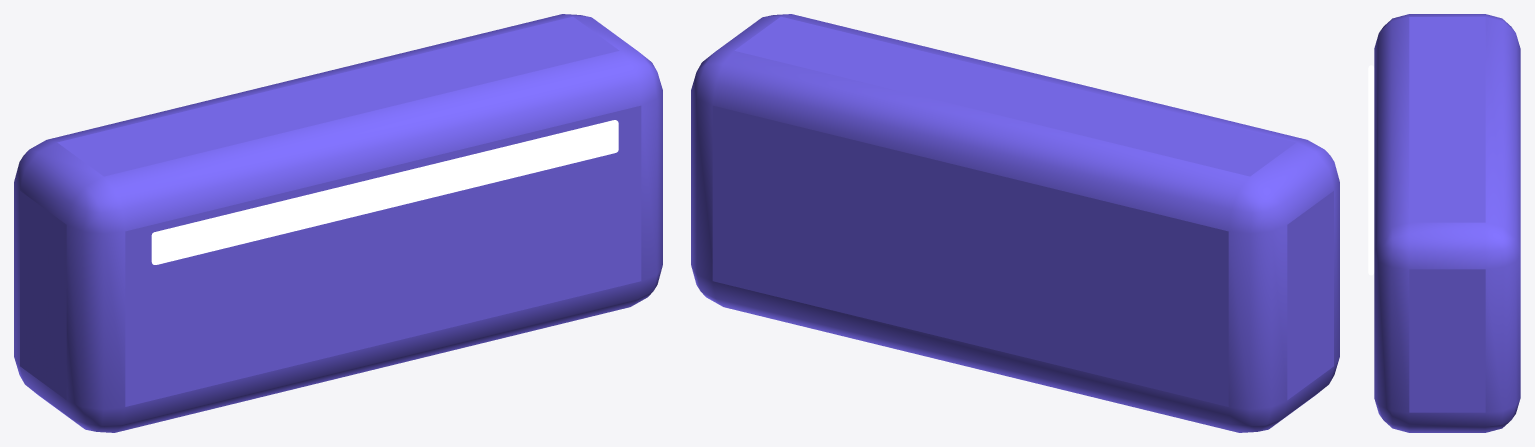
The model's file is cihla_fialova.glb.
3 renders of one model, left to right at view 1: azimuth 30°, elevation 25°; view 2: azimuth 150°, elevation 25°; view 3: azimuth 270°, elevation 25°, orthographic. The views are drawn at different scales.
Visible parts, largest first — view 1: cihla_fialova_m, cihla_fialova_lesk; view 2: cihla_fialova_m; view 3: cihla_fialova_m, cihla_fialova_lesk.
Boxes of the visible parts, <box> form: cihla_fialova_m: <box>14,14,662,432</box>; cihla_fialova_lesk: <box>151,120,618,264</box>; cihla_fialova_m: <box>691,14,1339,432</box>; cihla_fialova_m: <box>1374,14,1520,432</box>; cihla_fialova_lesk: <box>1368,65,1374,275</box>.
Size of the model in its own units: 1.9 by 0.78 by 0.52.
